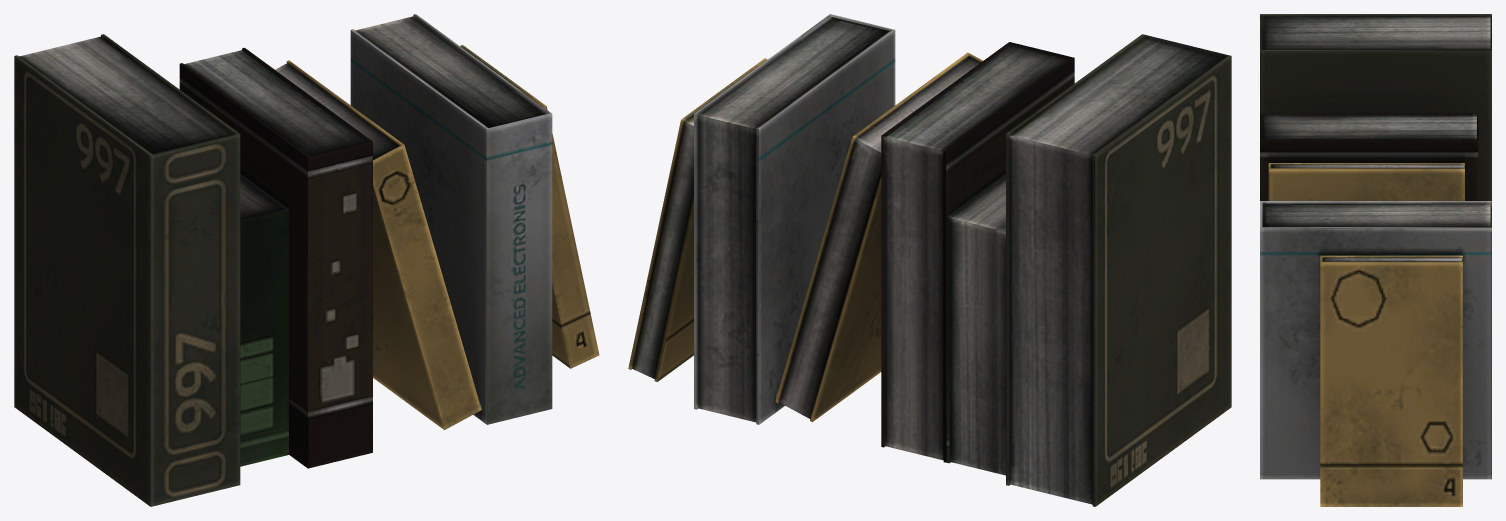
The model's file is book_row01.dae.
3 views of the same model, side by side, from view 1: azimuth 30°, elevation 25°; view 2: azimuth 150°, elevation 25°; view 3: azimuth 270°, elevation 25° (orthographic). The views are drawn at different scales.
Parts seen in each view (by area): view 1: book_row01; view 2: book_row01; view 3: book_row01.
Boxes of the visible parts, bbox=[...] form: book_row01: bbox=[14, 14, 599, 506]; book_row01: bbox=[628, 14, 1231, 506]; book_row01: bbox=[1260, 14, 1491, 506].
Size of the model in its own units: 0.4994 by 0.3463 by 0.2435.
